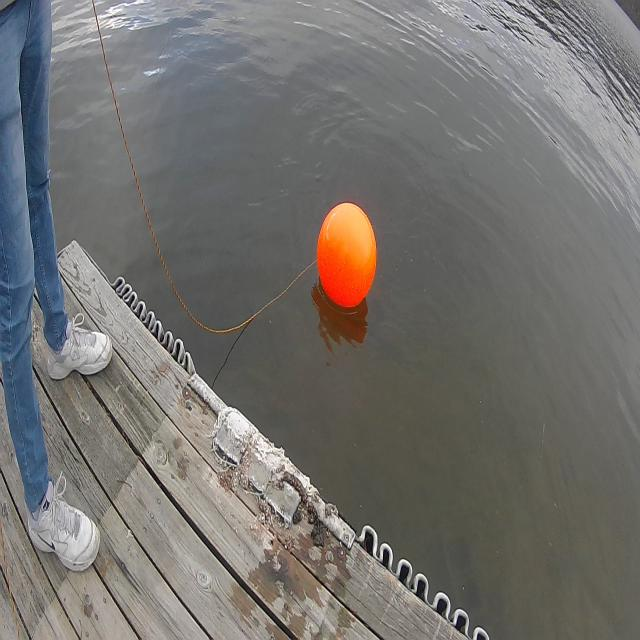Buoy: (312, 192, 382, 320)
